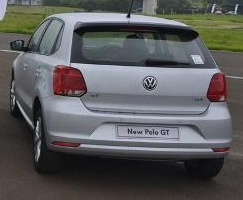car: (7, 11, 233, 182)
